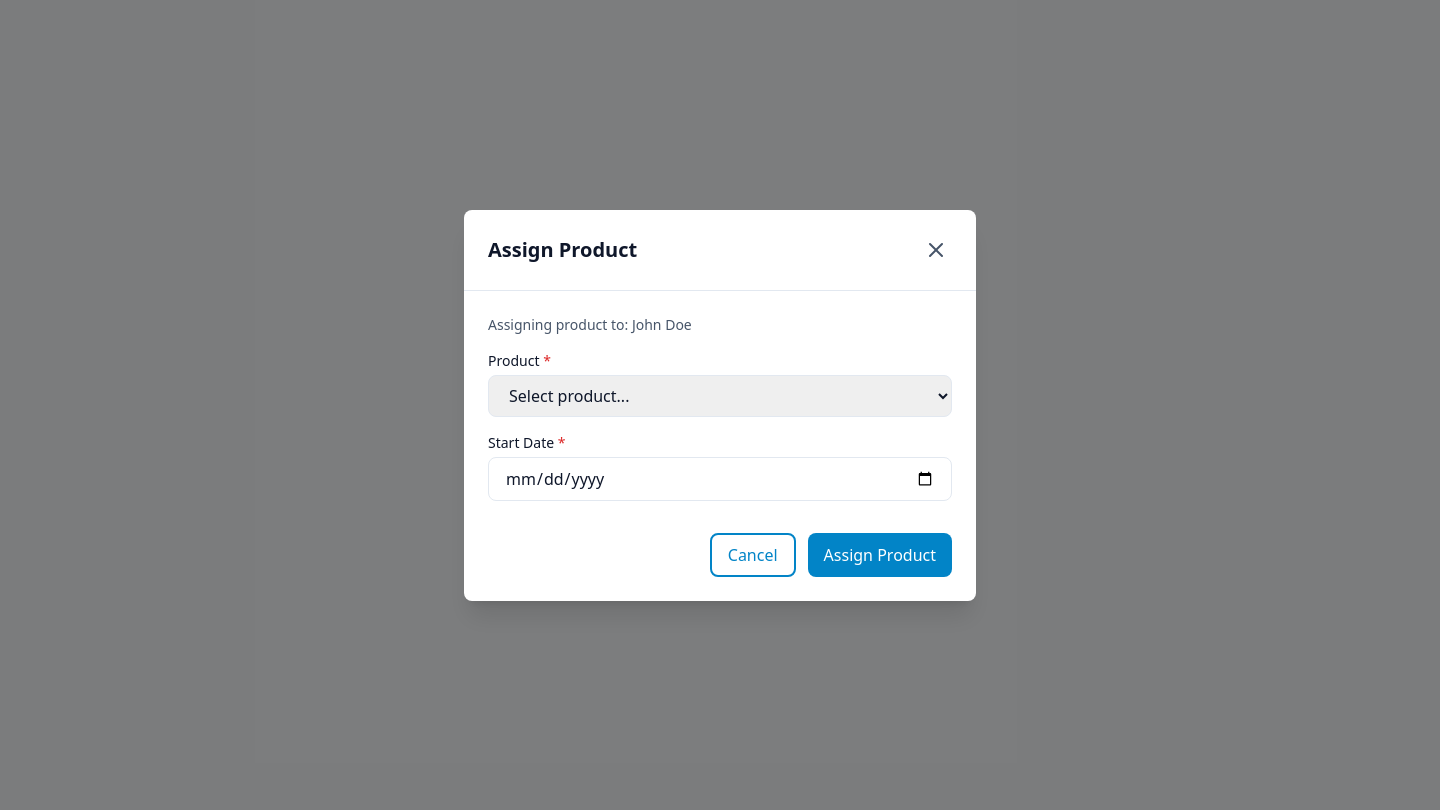
Test: AssignProductModal › Form Validation › shows validation error if no product selected
The image size is (1440, 810).
Click the button "Assign Product". click: x=880, y=554
box: [808,532,952,576]
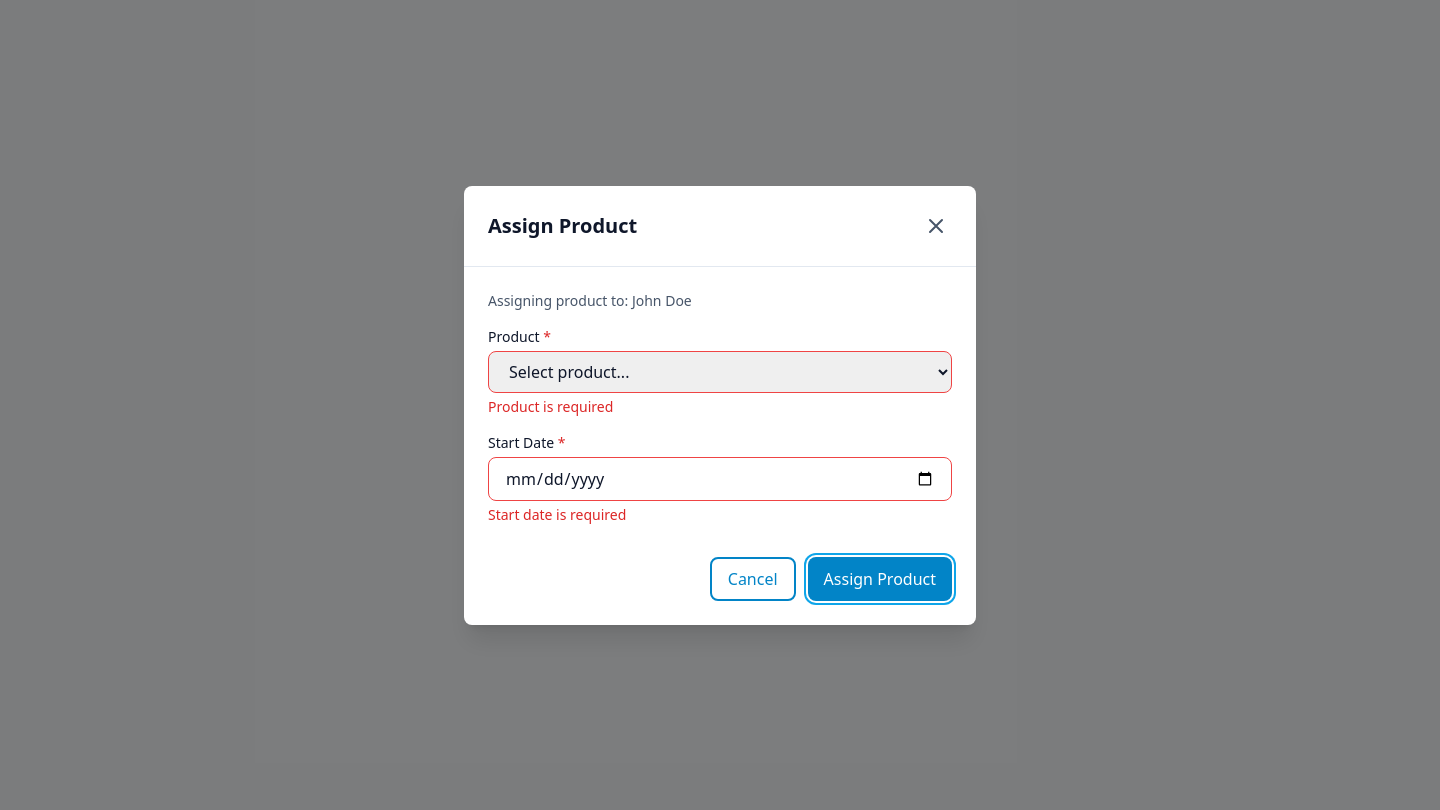
Expected: the text "Product is required" is shown, [488,396,613,416]
